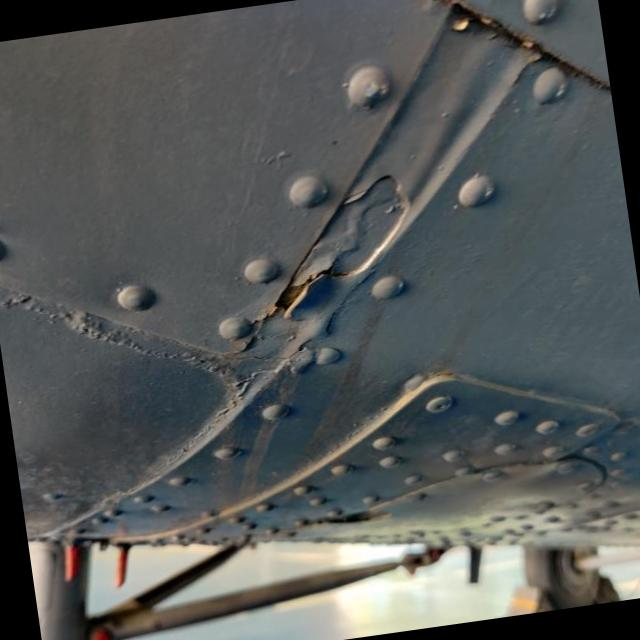Crack: (258, 257, 359, 329)
